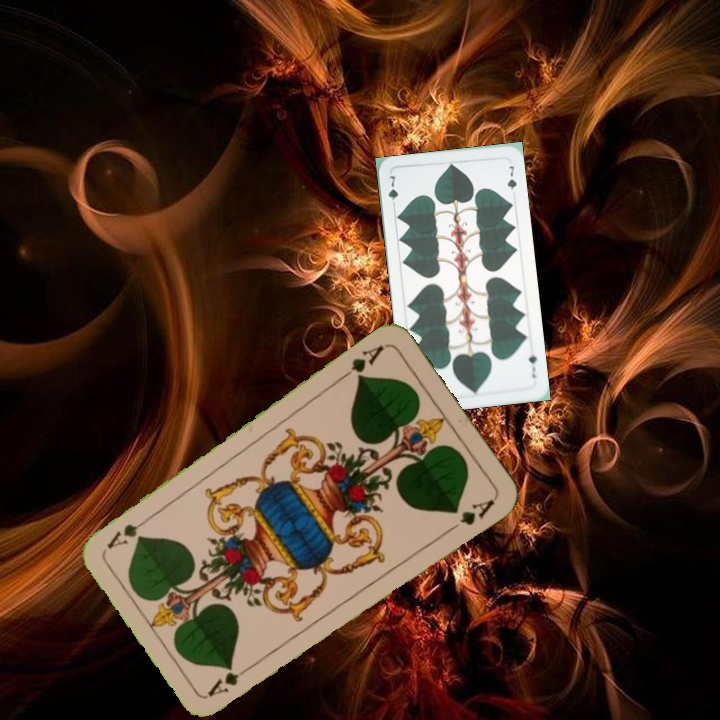G7: (384, 171, 401, 211), (524, 345, 539, 380)
GA: (204, 660, 257, 699), (337, 341, 387, 382)
